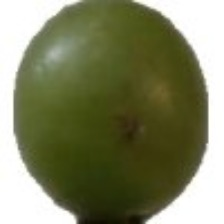grapes: (38, 46, 174, 204)
